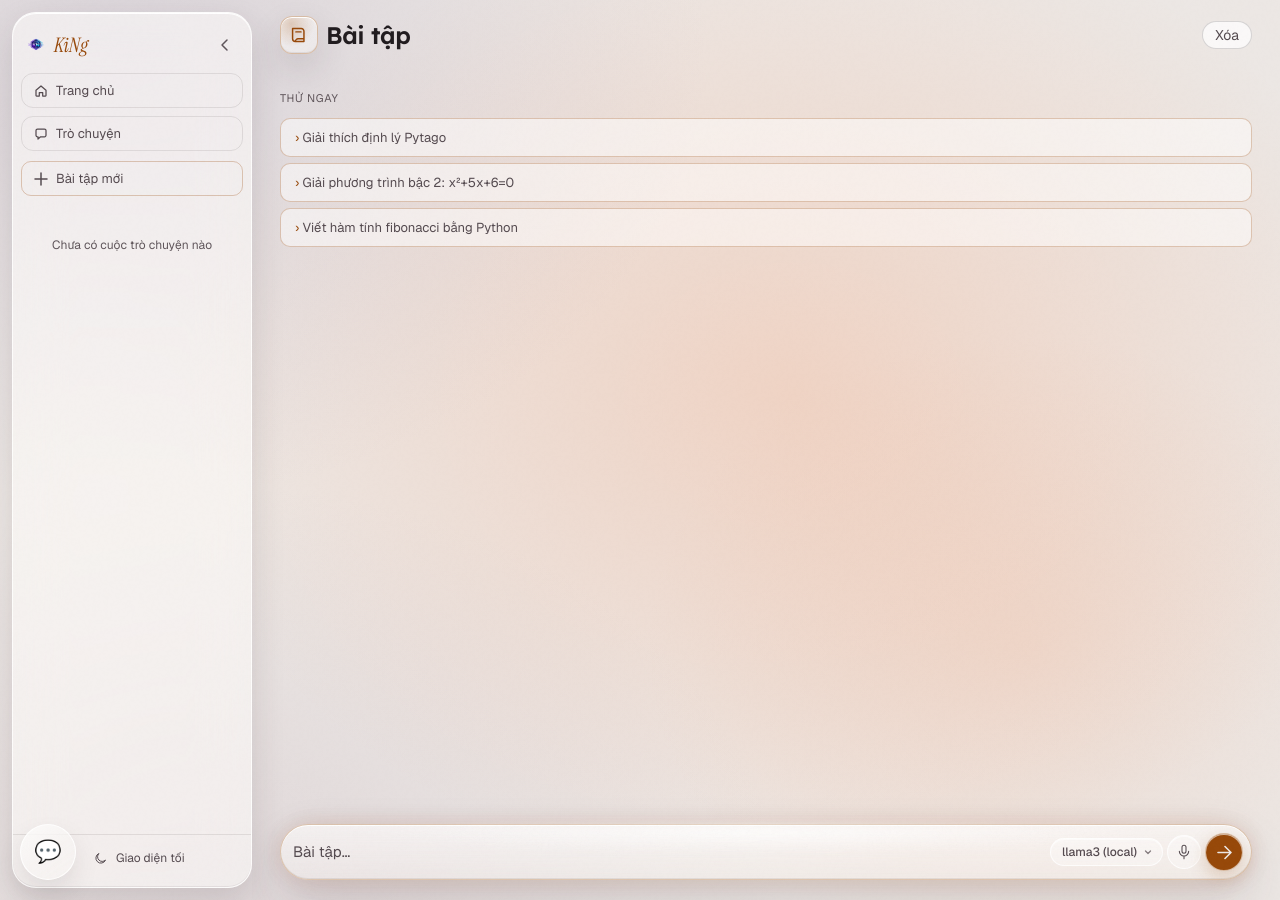
Scenario: điều hướng sang từng tool › quay lại trang chủ từ một tool dùng route chung (/tool/:id)
The image size is (1280, 900).
Click the button "Trang chủ" at [132, 90], box [21,73,243,108]
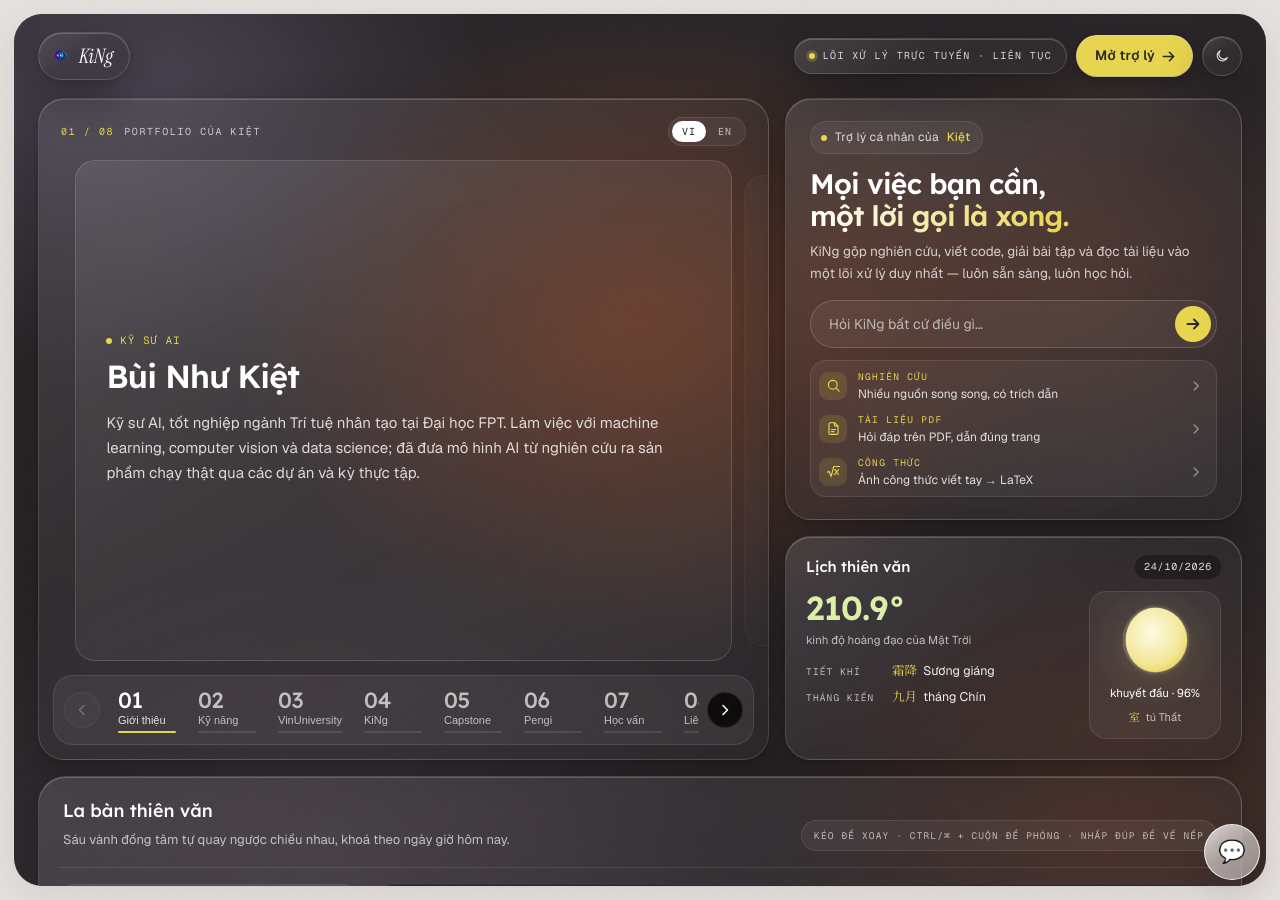
Result: the heading "Mọi việc bạn cần,một lời gọi là xong." is shown at [810,166,1069,233]
